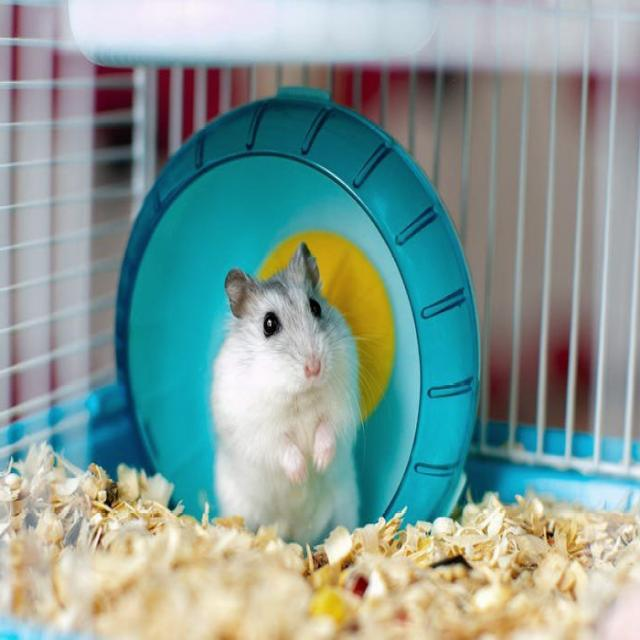hamster: (211, 243, 360, 542)
